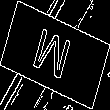M_S: (32, 24, 78, 86)
